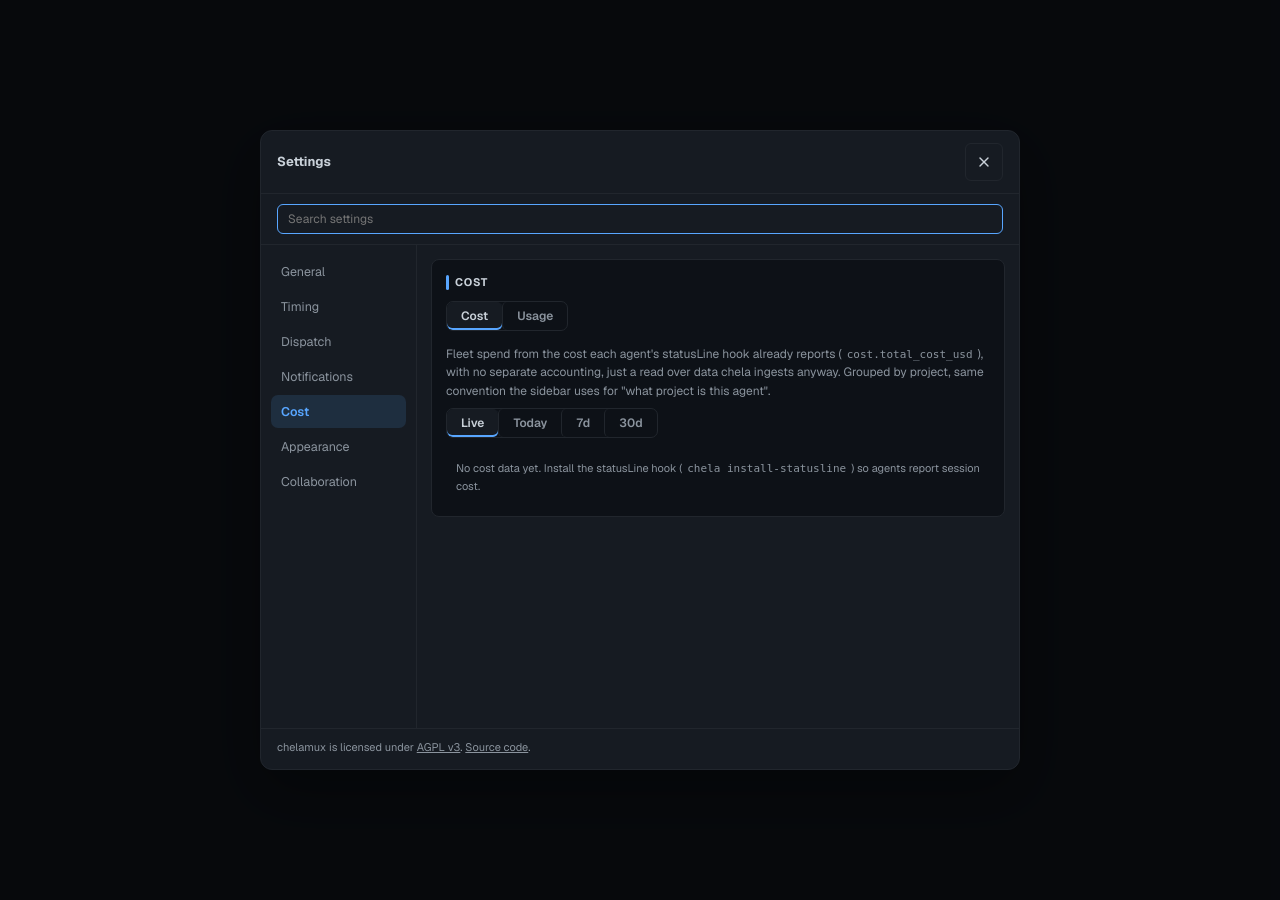
it: a limit with no fresh sample is UNKNOWN with its reason, never 0%; a known one fills to its %
Click the button "Usage" at (535, 316), box [502, 302, 567, 330]
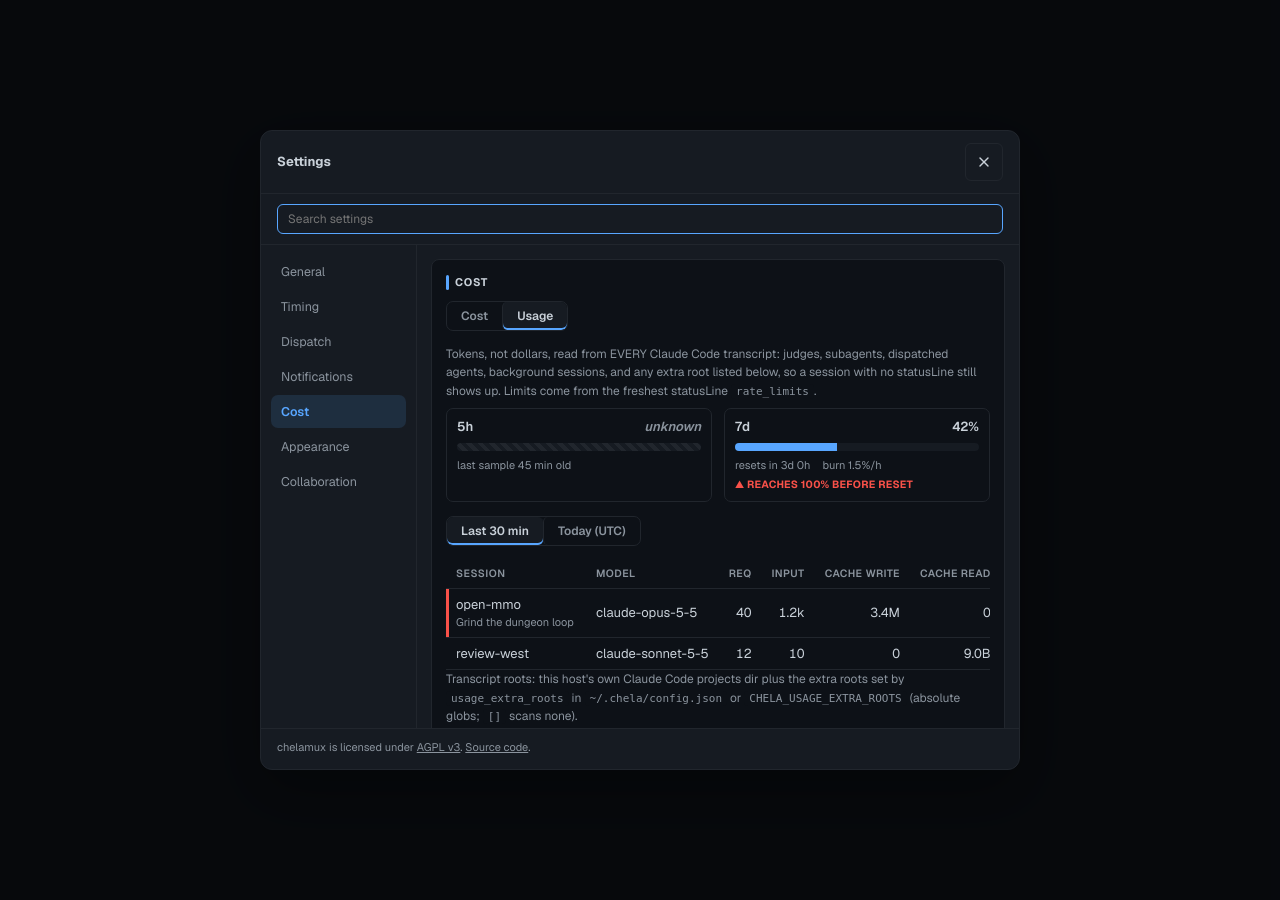
Expected: the text with class "usage-limit-val" reads "unknown", [644, 418, 701, 435]
Expected: the text with class "usage-limit-val" reads "42%", [952, 417, 979, 437]
